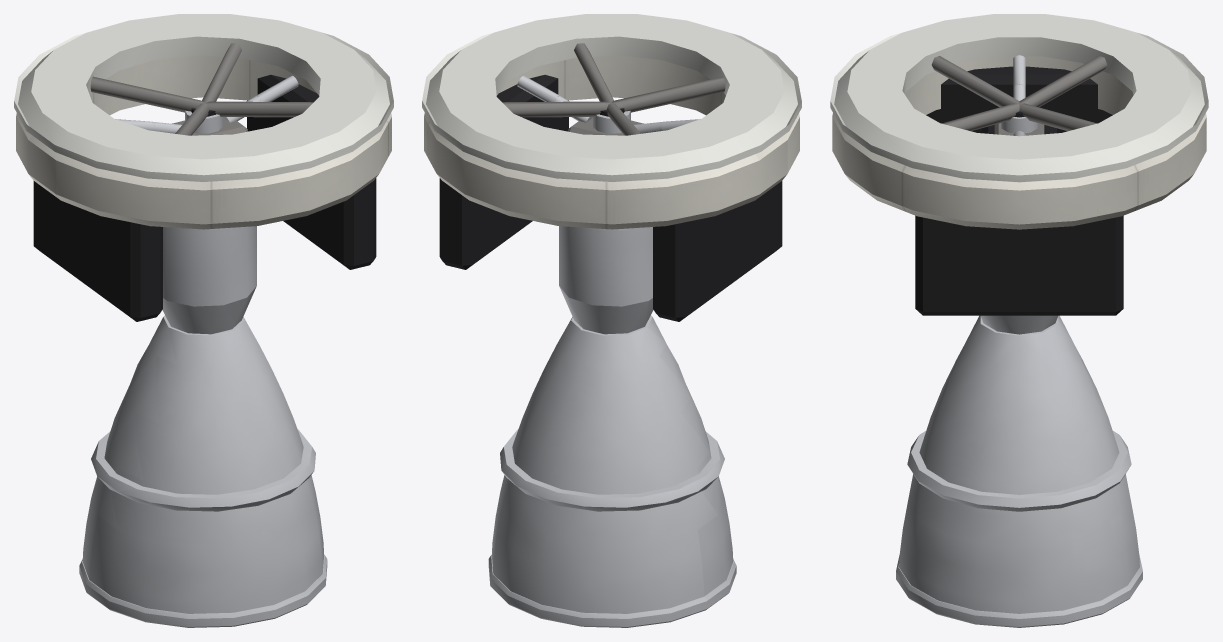
The model's file is ax_prop_19_vernier.glb.
3 renders of one model, left to right at view 1: azimuth 30°, elevation 25°; view 2: azimuth 150°, elevation 25°; view 3: azimuth 270°, elevation 25°, orthographic.
Parts seen in each view (by area): view 1: regen_nozzle, mount_ring, thermal_blanket_ring, gimbal_yoke, chamber, regen_manifold, thrust_struts, nozzle_lip, plumbing, injector_dome; view 2: regen_nozzle, mount_ring, thermal_blanket_ring, gimbal_yoke, chamber, regen_manifold, thrust_struts, nozzle_lip, plumbing, injector_dome; view 3: regen_nozzle, mount_ring, gimbal_yoke, thermal_blanket_ring, thrust_struts, regen_manifold, nozzle_lip, chamber, plumbing.
Boxes of the visible parts, x1,y1,x2,y2 form: regen_nozzle: (82,315,323,613); mount_ring: (14,14,393,181); thermal_blanket_ring: (16,55,391,229); gimbal_yoke: (33,74,376,321); chamber: (162,226,256,334); regen_manifold: (91,429,315,511); thrust_struts: (90,43,313,135); nozzle_lip: (79,554,327,627); plumbing: (115,75,298,133); injector_dome: (180,110,227,230); regen_nozzle: (492,315,733,613); mount_ring: (422,14,801,181); thermal_blanket_ring: (424,55,799,229); gimbal_yoke: (439,74,782,321); chamber: (559,226,653,334); regen_manifold: (500,429,724,511); thrust_struts: (502,43,725,135); nozzle_lip: (488,554,736,627); plumbing: (517,75,700,133); injector_dome: (588,110,635,230); regen_nozzle: (899,315,1139,613); mount_ring: (830,14,1208,182); gimbal_yoke: (915,66,1123,315); thermal_blanket_ring: (832,56,1206,229); thrust_struts: (931,56,1107,131); regen_manifold: (907,431,1131,511); nozzle_lip: (896,555,1142,627); chamber: (981,315,1057,334); plumbing: (1013,55,1025,136).
Size of the model in its own units: 0.4 by 0.5706 by 0.3997.
5 materials, 3 textured.
